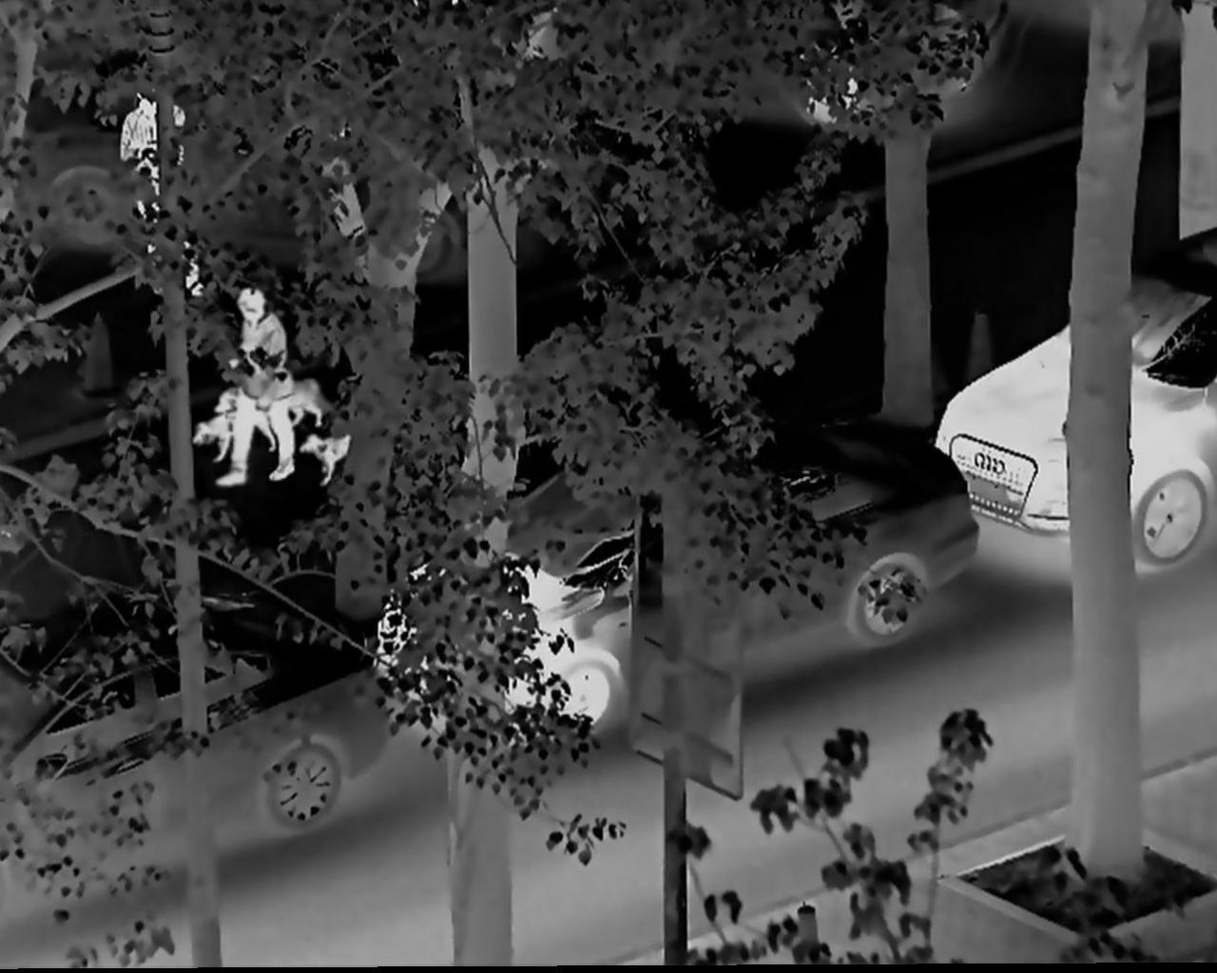person: (116, 90, 211, 299), (217, 291, 299, 483)
